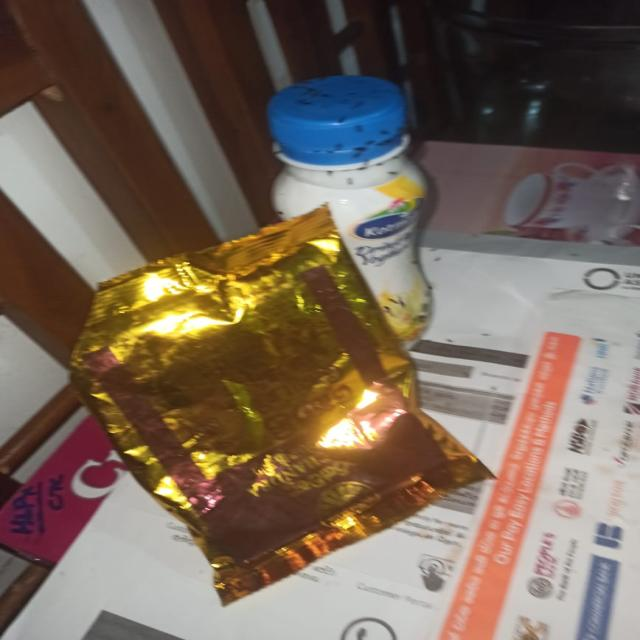Harischandra Coffee: (42, 262, 534, 581)
